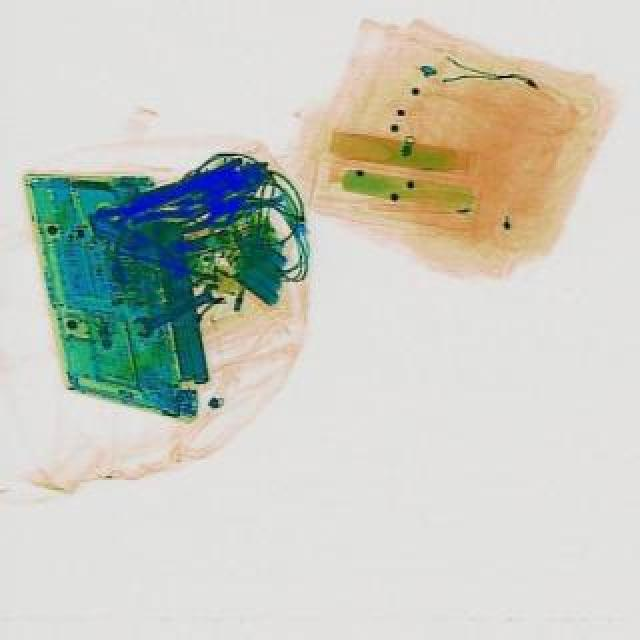scissors: (128, 280, 226, 344)
wrench: (130, 188, 246, 248)
